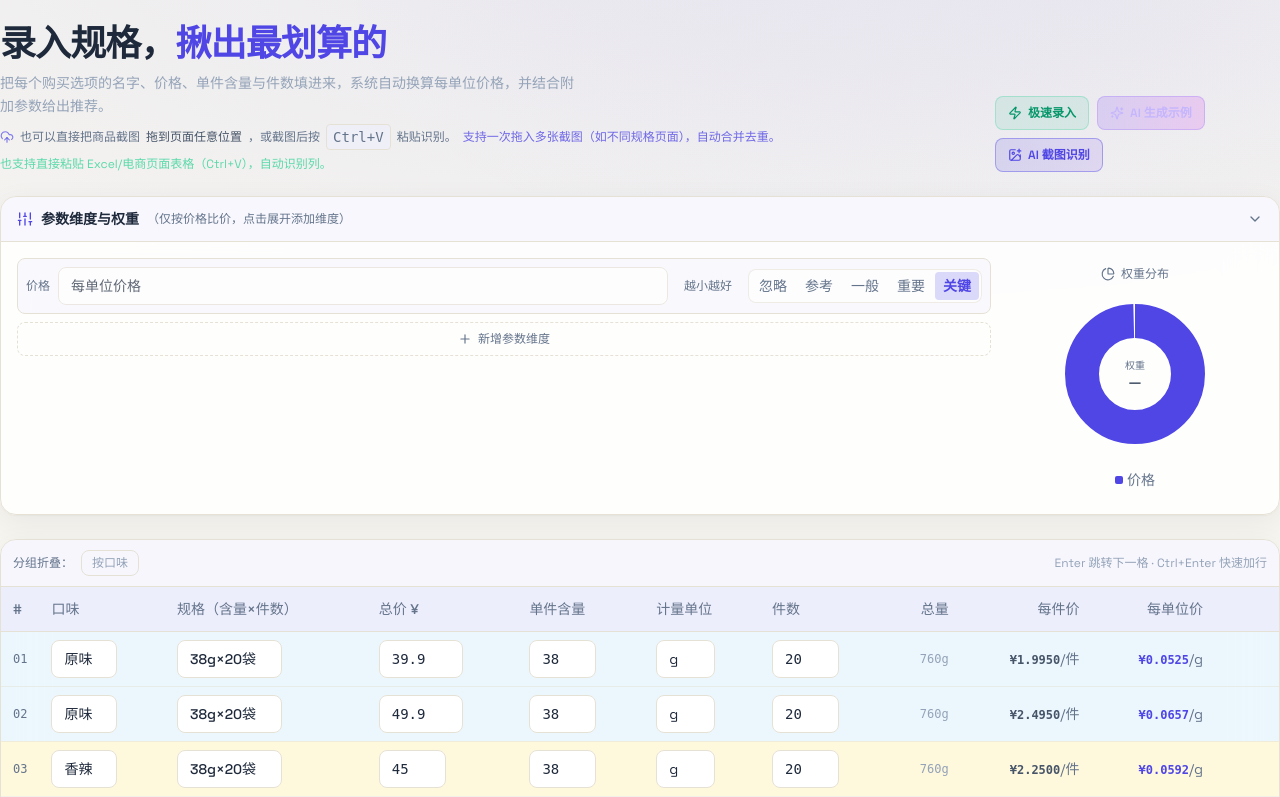
Test: Workbench 分组折叠 › 点击取消分组恢复未分组视图
Click the button "按口味": click(110, 562) [81, 550, 139, 576]
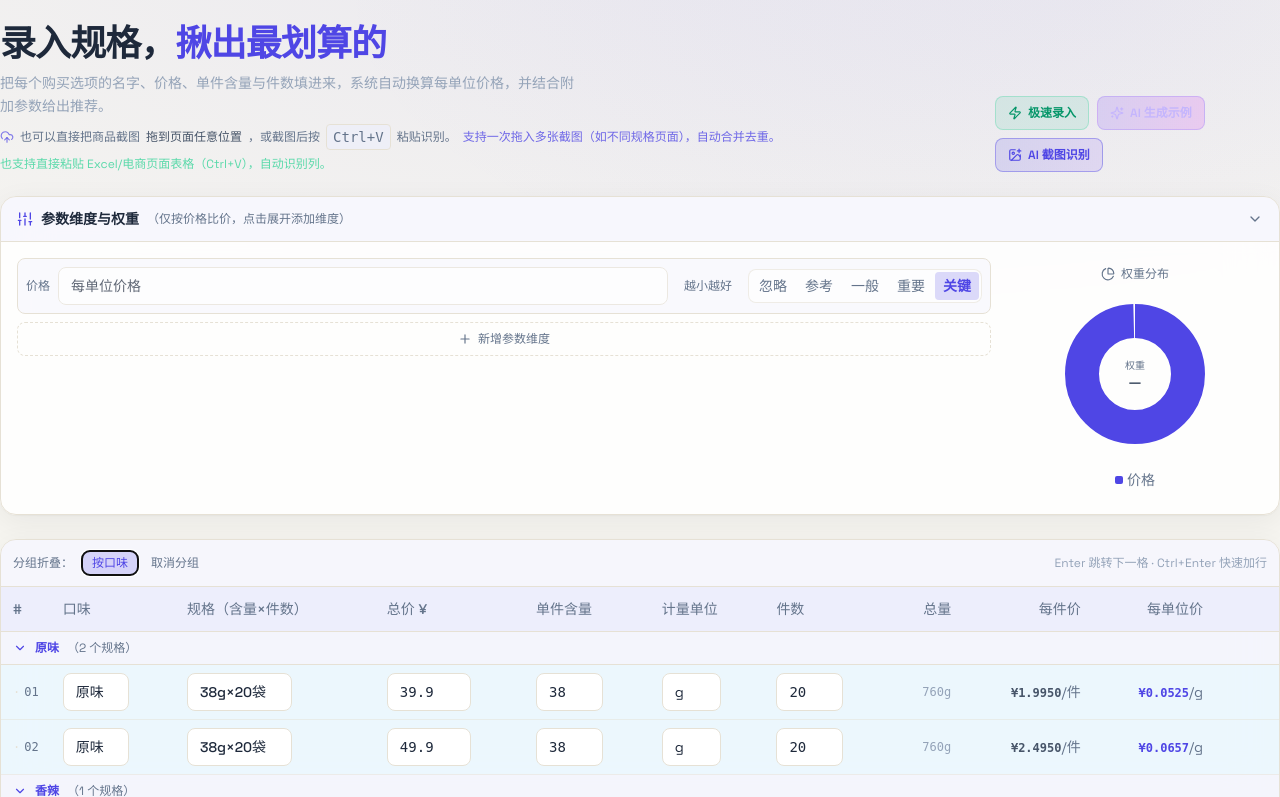
Result: the text "（2 个规格）" is shown at [67, 640, 137, 656]
Click the button "取消分组": click(175, 562) [151, 554, 199, 570]
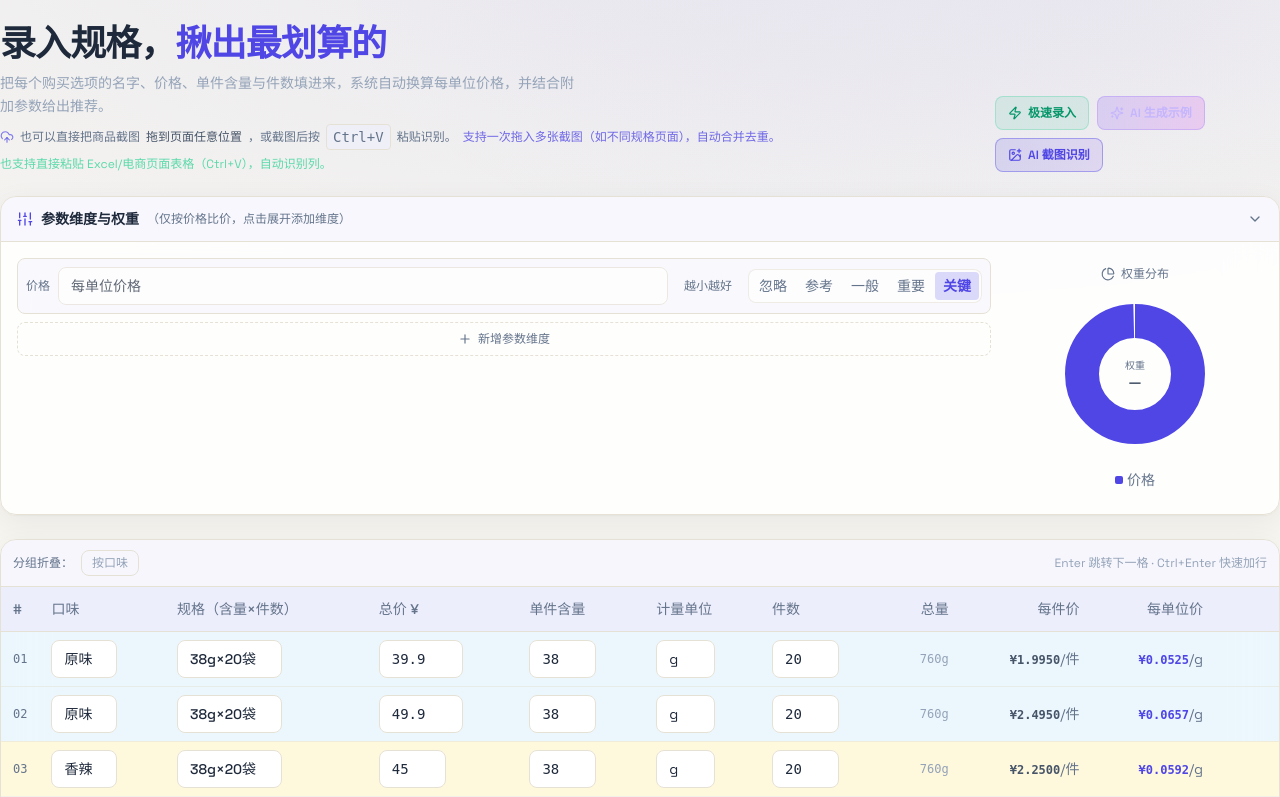
Result: the text "（2 个规格）" is gone
Result: the button "取消分组" is gone
